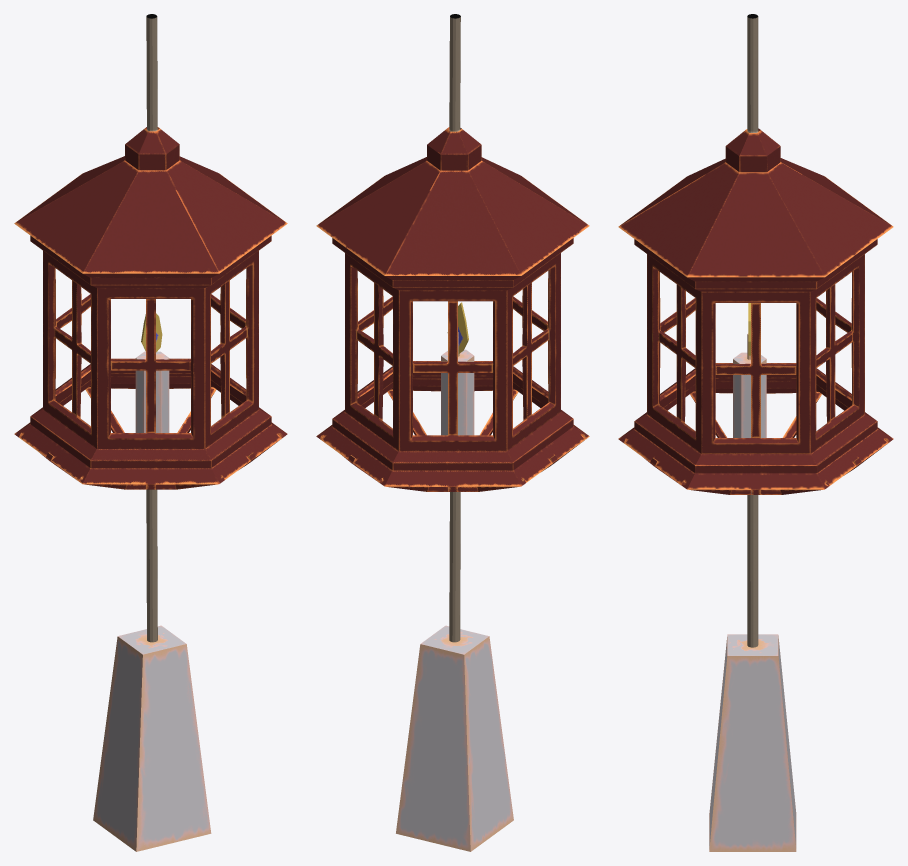
Rendered from prop-lantern.glb.
3 renders of one model, left to right at view 1: azimuth 30°, elevation 25°; view 2: azimuth 150°, elevation 25°; view 3: azimuth 270°, elevation 25°, orthographic.
Parts seen in each view (by area): view 1: bake.011; view 2: bake.011; view 3: bake.011.
Part boxes in pixels (left/top/right/bottom): bake.011: left=14, top=14, right=287, bottom=851; bake.011: left=316, top=14, right=589, bottom=851; bake.011: left=618, top=14, right=893, bottom=851.
Bounding box in the file's own units: 0.4449 × 1.68 × 0.5137.
Materials: 1 (1 with a texture image).
